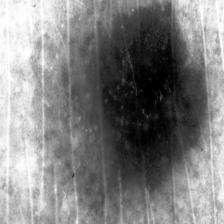Benign Marking or Mole: (97, 0, 208, 189)
